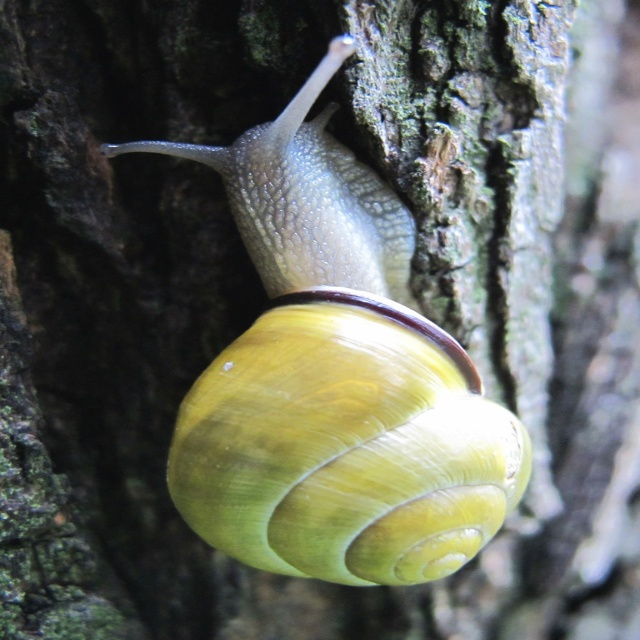Snail: (96, 36, 536, 593)
